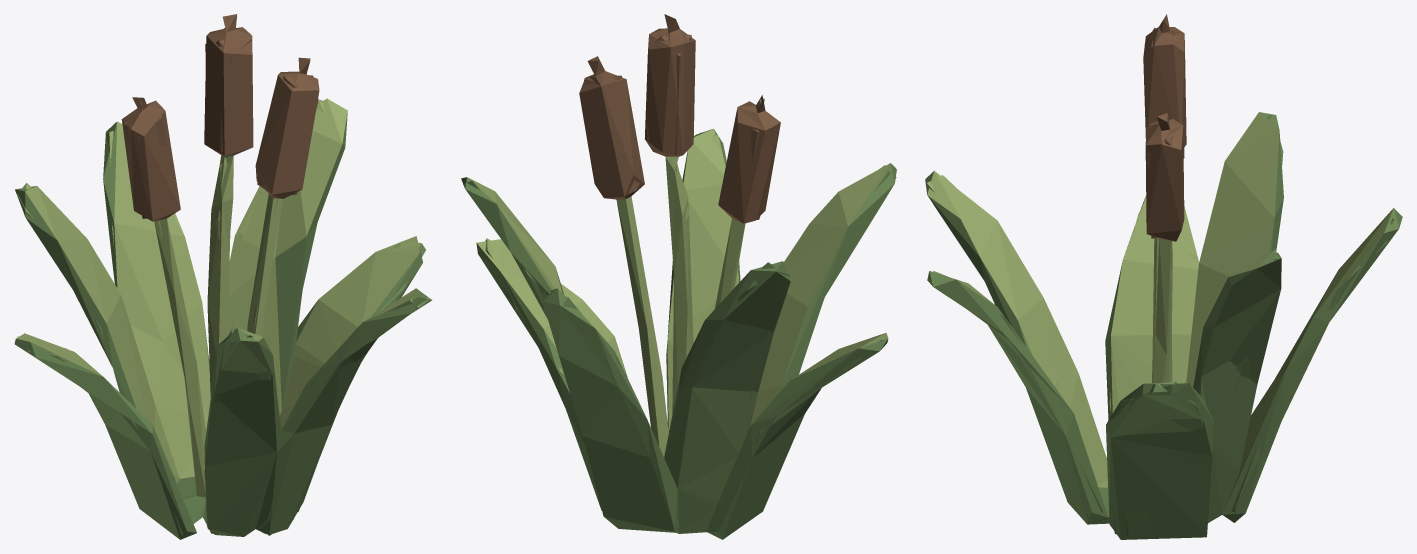
File: ENV_09_REEDS_game.glb
3 views of the same model, side by side, from view 1: azimuth 30°, elevation 25°; view 2: azimuth 150°, elevation 25°; view 3: azimuth 270°, elevation 25° (orthographic).
Visible parts, largest first — view 1: ENV_09_REEDS; view 2: ENV_09_REEDS; view 3: ENV_09_REEDS.
Part boxes in pixels (x1,y1,x2,y2): ENV_09_REEDS: (14,14,432,539); ENV_09_REEDS: (461,14,896,539); ENV_09_REEDS: (925,14,1402,539).
Size of the model in its own units: 1.25 by 1.45 by 1.25.
